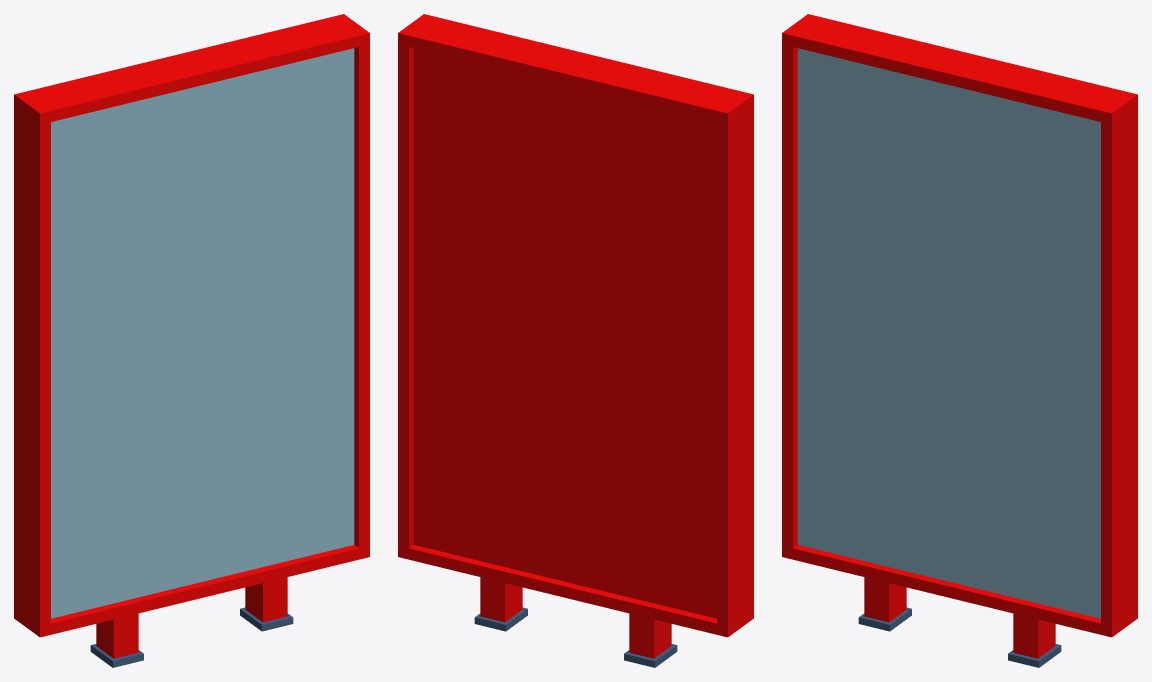
The model's file is SM_banner_01.glb.
3 views of the same model, side by side, from view 1: azimuth 30°, elevation 25°; view 2: azimuth 150°, elevation 25°; view 3: azimuth 330°, elevation 25° (orthographic).
Visible parts, largest first — view 1: SM_banner_01; view 2: SM_banner_01; view 3: SM_banner_01.
Part boxes in pixels (x1,y1,x2,y2): SM_banner_01: [14, 14, 369, 667]; SM_banner_01: [398, 14, 753, 667]; SM_banner_01: [782, 14, 1137, 667].
Bounding box in the file's own units: 1.08 × 1.8 × 0.1477.
Materials: 1 (1 with a texture image).
